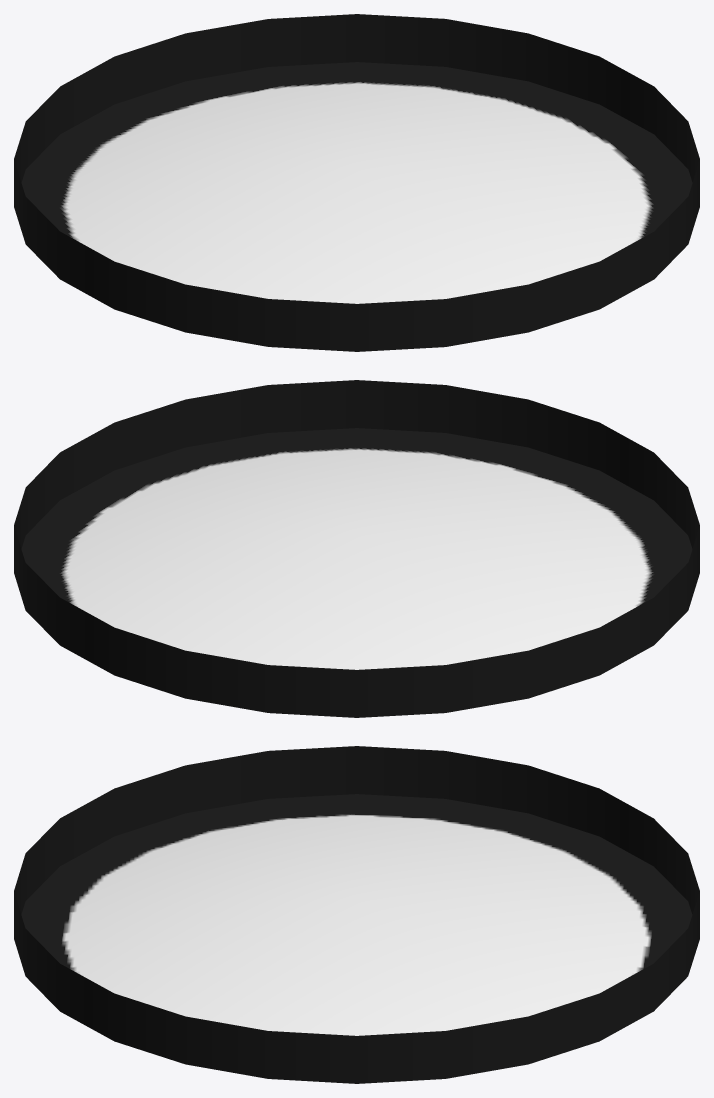
The model's file is CylinderLight.fbx.
3 views of the same model, one above another, from view 1: azimuth 30°, elevation 25°; view 2: azimuth 150°, elevation 25°; view 3: azimuth 270°, elevation 25° (orthographic).
Parts seen in each view (by area): view 1: CylinderLight; view 2: CylinderLight; view 3: CylinderLight.
Boxes of the visible parts, x1,y1,x2,y2 form: CylinderLight: (14,14,699,351); CylinderLight: (14,380,699,717); CylinderLight: (14,746,699,1083).
Size of the model in its own units: 22.6 by 1.75 by 22.6.
